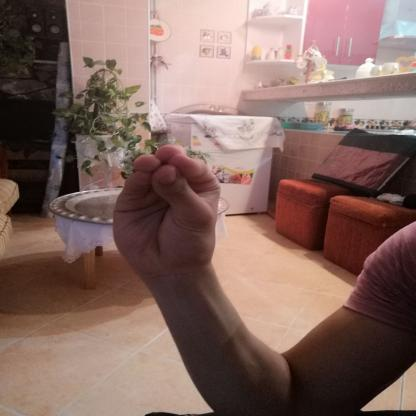HA: (94, 129, 243, 290)
